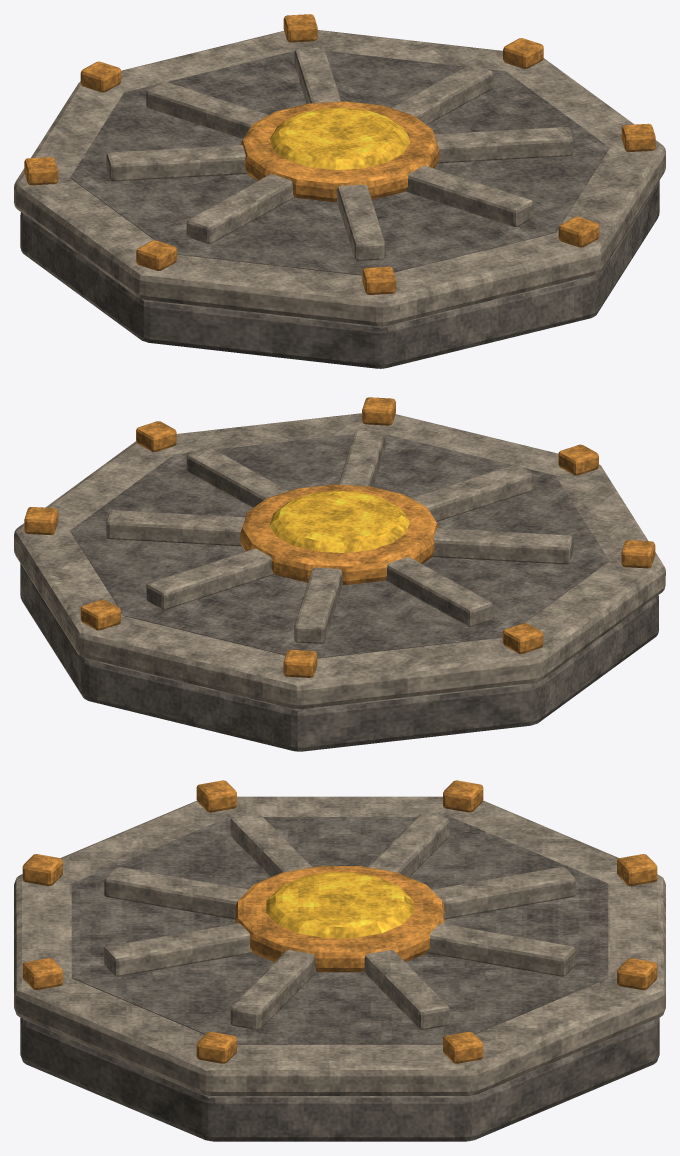
The model's file is top_octagon.glb.
3 renders of one model, top to bottom at view 1: azimuth 30°, elevation 25°; view 2: azimuth 150°, elevation 25°; view 3: azimuth 270°, elevation 25°, orthographic. The views are drawn at different scales.
Parts seen in each view (by area): view 1: rim, well, deck, dish_ring, dish, rib5, rib1, rib0, rib6, rib4, rib2, rib7 (+9 smaller); view 2: rim, well, deck, dish_ring, dish, rib6, rib2, rib3, rib5, rib7, rib1, rib4 (+9 smaller); view 3: rim, well, deck, dish_ring, dish, rib0, rib3, rib4, rib7, rib1, rib2, rib5 (+9 smaller).
Part boxes in pixels (<box>): rim: <box>14,30,665,326</box>; well: <box>70,51,609,275</box>; deck: <box>20,180,659,368</box>; dish_ring: <box>240,101,439,202</box>; dish: <box>270,107,409,169</box>; rib5: <box>106,145,247,181</box>; rib1: <box>434,127,573,163</box>; rib0: <box>405,165,533,226</box>; rib6: <box>186,174,294,243</box>; rib4: <box>146,81,268,138</box>; rib2: <box>391,64,493,124</box>; rib7: <box>337,184,385,260</box>; rim: <box>14,413,665,709</box>; well: <box>70,434,609,658</box>; deck: <box>20,563,658,751</box>; dish_ring: <box>240,484,438,584</box>; dish: <box>269,490,409,552</box>; rib6: <box>432,528,573,564</box>; rib2: <box>106,510,245,546</box>; rib3: <box>146,548,274,609</box>; rib5: <box>384,557,492,626</box>; rib7: <box>411,464,533,521</box>; rib1: <box>186,447,288,507</box>; rib4: <box>294,567,342,643</box>; rim: <box>14,796,665,1095</box>; well: <box>71,817,608,1044</box>; deck: <box>20,1017,659,1141</box>; dish_ring: <box>235,866,444,972</box>; dish: <box>266,872,413,938</box>; rib0: <box>104,923,252,976</box>; rib3: <box>427,923,575,976</box>; rib4: <box>431,867,575,919</box>; rib7: <box>104,867,248,919</box>; rib1: <box>230,950,316,1029</box>; rib2: <box>363,950,449,1029</box>; rib5: <box>368,813,449,877</box>.
Bounding box in the file's own units: 0.9801 × 0.185 × 0.9801.
Materials: 4 (4 with a texture image).
